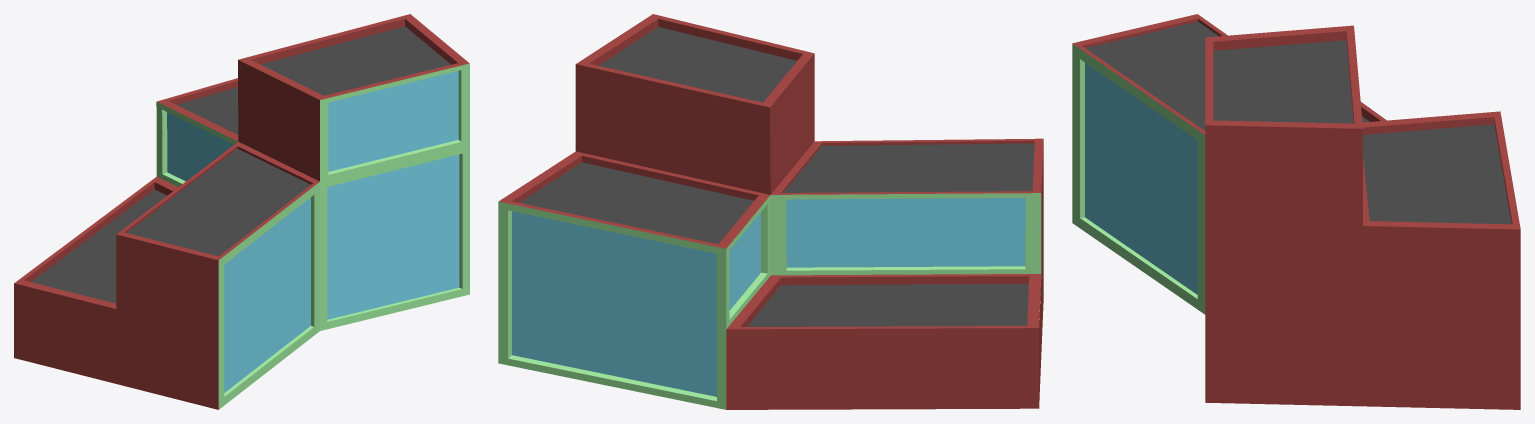
Rendered from Building_06.fbx.
3 views of the same model, side by side, from view 1: azimuth 30°, elevation 25°; view 2: azimuth 150°, elevation 25°; view 3: azimuth 270°, elevation 25° (orthographic). The views are drawn at different scales.
Visible parts, largest first — view 1: Building_16; view 2: Building_16; view 3: Building_16.
Part boxes in pixels (<box>): Building_16: <box>14,14,469,409</box>; Building_16: <box>498,14,1043,409</box>; Building_16: <box>1072,14,1520,409</box>.
Bounding box in the file's own units: 10889 × 5736 × 8402.
